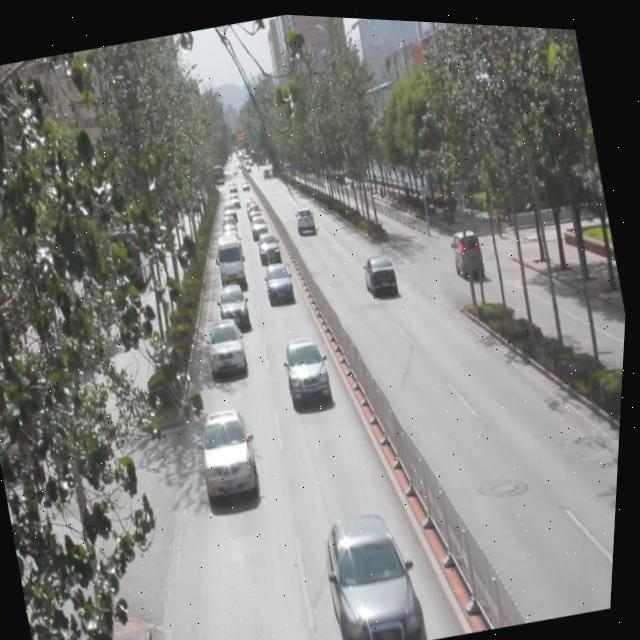car: (319, 499, 434, 640), (195, 401, 267, 503), (282, 328, 337, 402), (205, 311, 254, 378), (361, 245, 403, 299), (216, 276, 254, 331), (262, 254, 300, 305), (255, 224, 284, 263)
truck: (212, 227, 251, 283), (446, 220, 485, 274)
